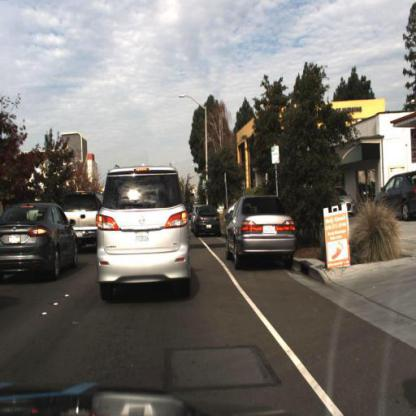car: (98, 171, 191, 298), (1, 201, 82, 280), (227, 197, 297, 264), (64, 192, 101, 252), (374, 172, 416, 220), (330, 182, 366, 225), (195, 206, 222, 238)
